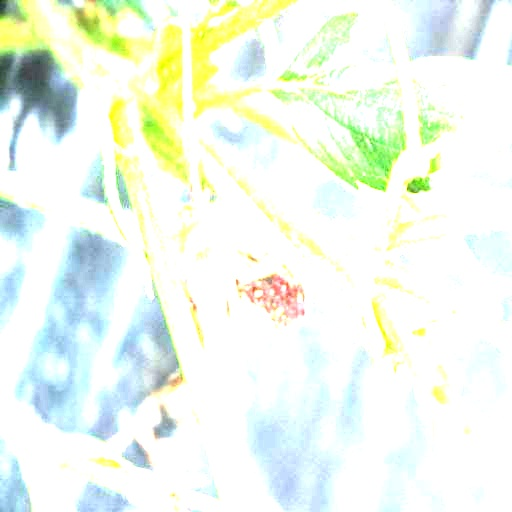Gray Mold: (185, 199, 310, 380)
